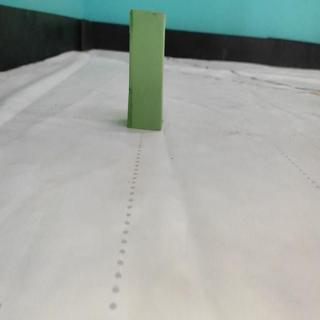greenbox: (128, 8, 165, 131)
